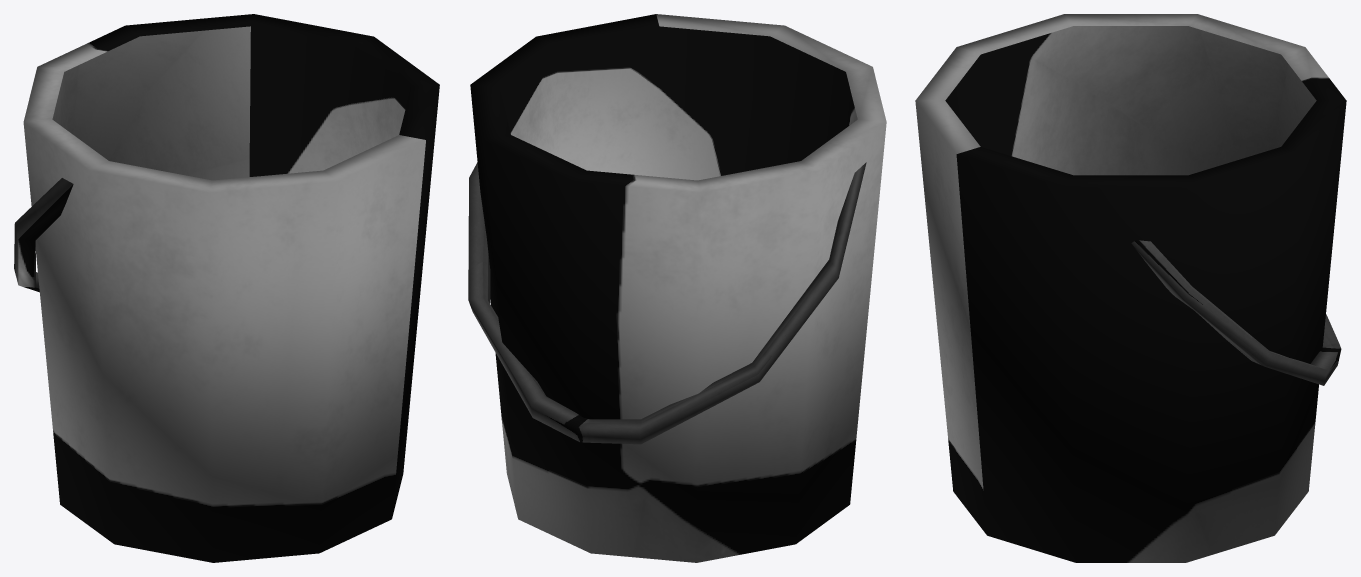
Rendered from Bucket.fbx.
The picture shows the model from 3 angles, left to right: view 1: azimuth 30°, elevation 25°; view 2: azimuth 150°, elevation 25°; view 3: azimuth 270°, elevation 25°; orthographic projection.
Parts seen in each view (by area): view 1: Bucket; view 2: Bucket; view 3: Bucket.
Boxes of the visible parts, x1=… form: Bucket: x1=14, y1=14, x2=439, y2=562; Bucket: x1=468, y1=14, x2=886, y2=562; Bucket: x1=915, y1=14, x2=1346, y2=562.
Bounding box in the file's own units: 31.34 × 31.54 × 31.54.
Materials: 1 (1 with a texture image).
